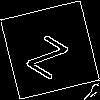Z: (25, 25, 75, 81)
